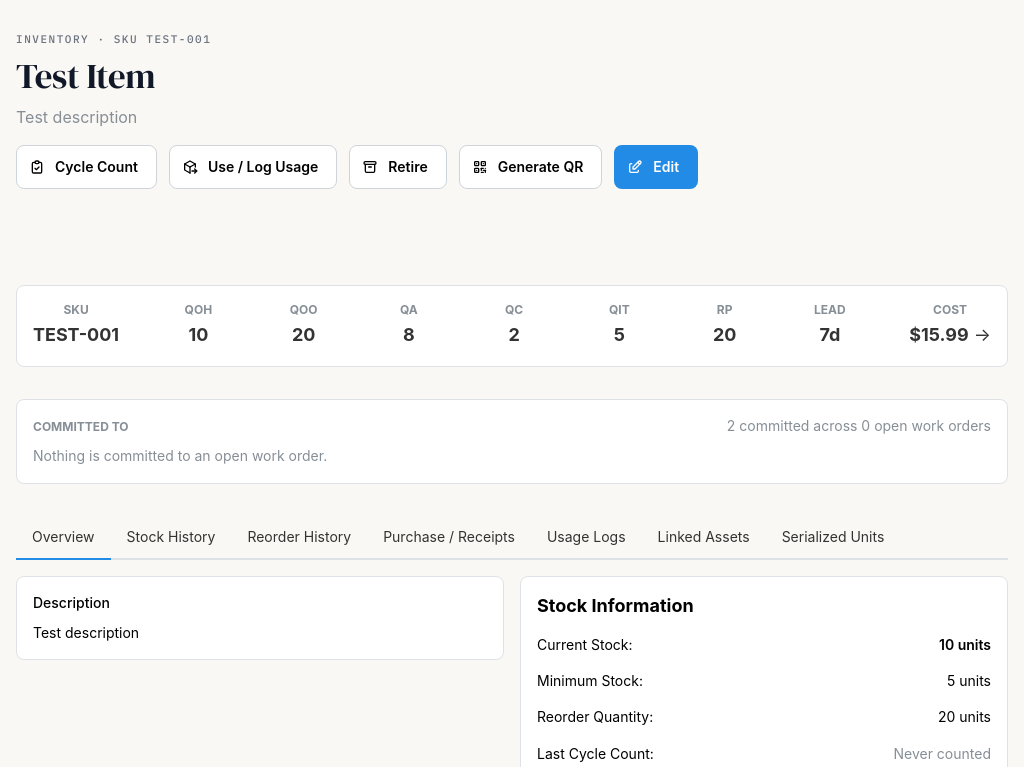
InventoryItemDetailPage › requests the assets that use this item as a part and renders them with AssetPart detail
Expected: the heading "Test Item" is shown, [16,52,155,100]
Click the tab "Linked Assets": (704,538) [642,516,766,560]
(page scrolled)
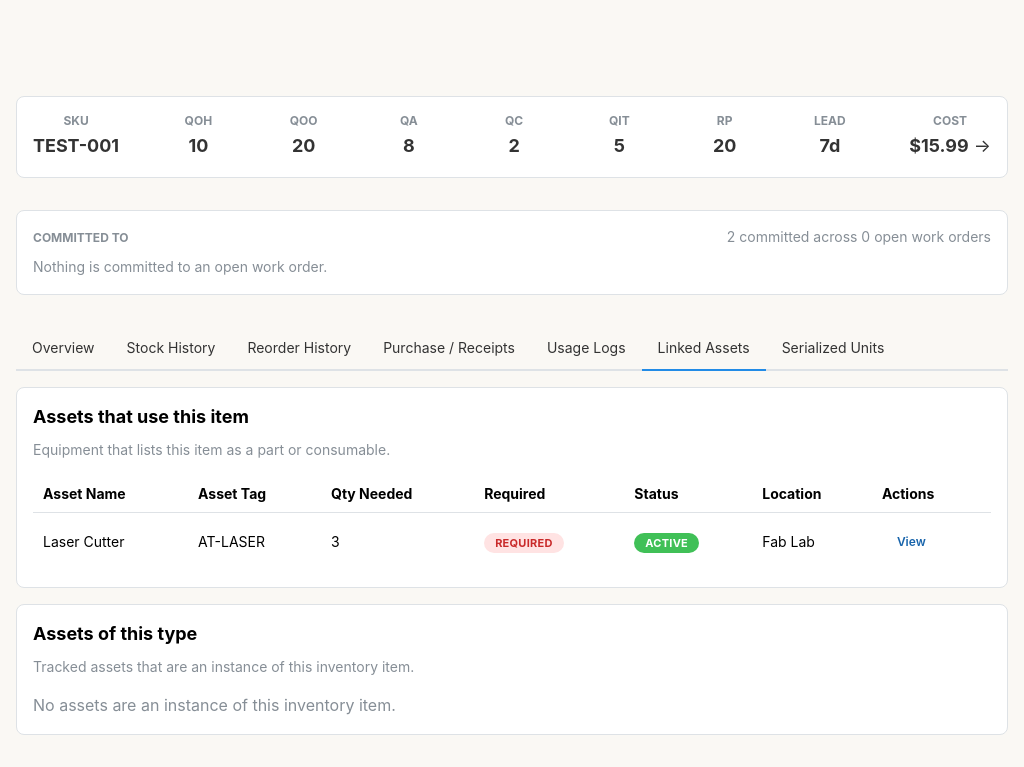
Result: the element with test id "assets-using-item" shows "Assets that use this item" at [33,406,249,427]
Result: the element with test id "assets-of-this-type" shows "Assets of this type" at [33,623,197,644]
Result: the element with test id "assets-using-item" shows "Laser Cutter" at [43,533,124,550]
